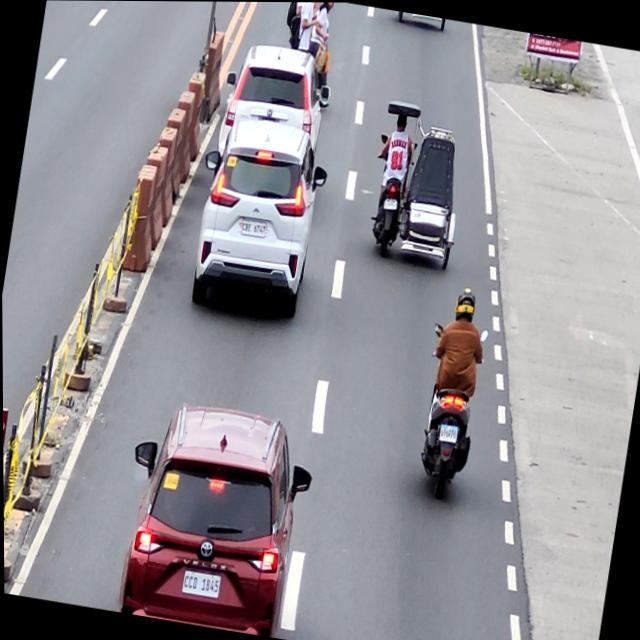Car: (108, 396, 321, 640), (183, 113, 335, 319), (216, 38, 338, 170)
License-Plate: (181, 571, 221, 599), (239, 218, 269, 238), (435, 423, 459, 446), (382, 196, 399, 212)
Motorcycle: (408, 315, 492, 499)
Tricycle: (360, 99, 474, 274)
